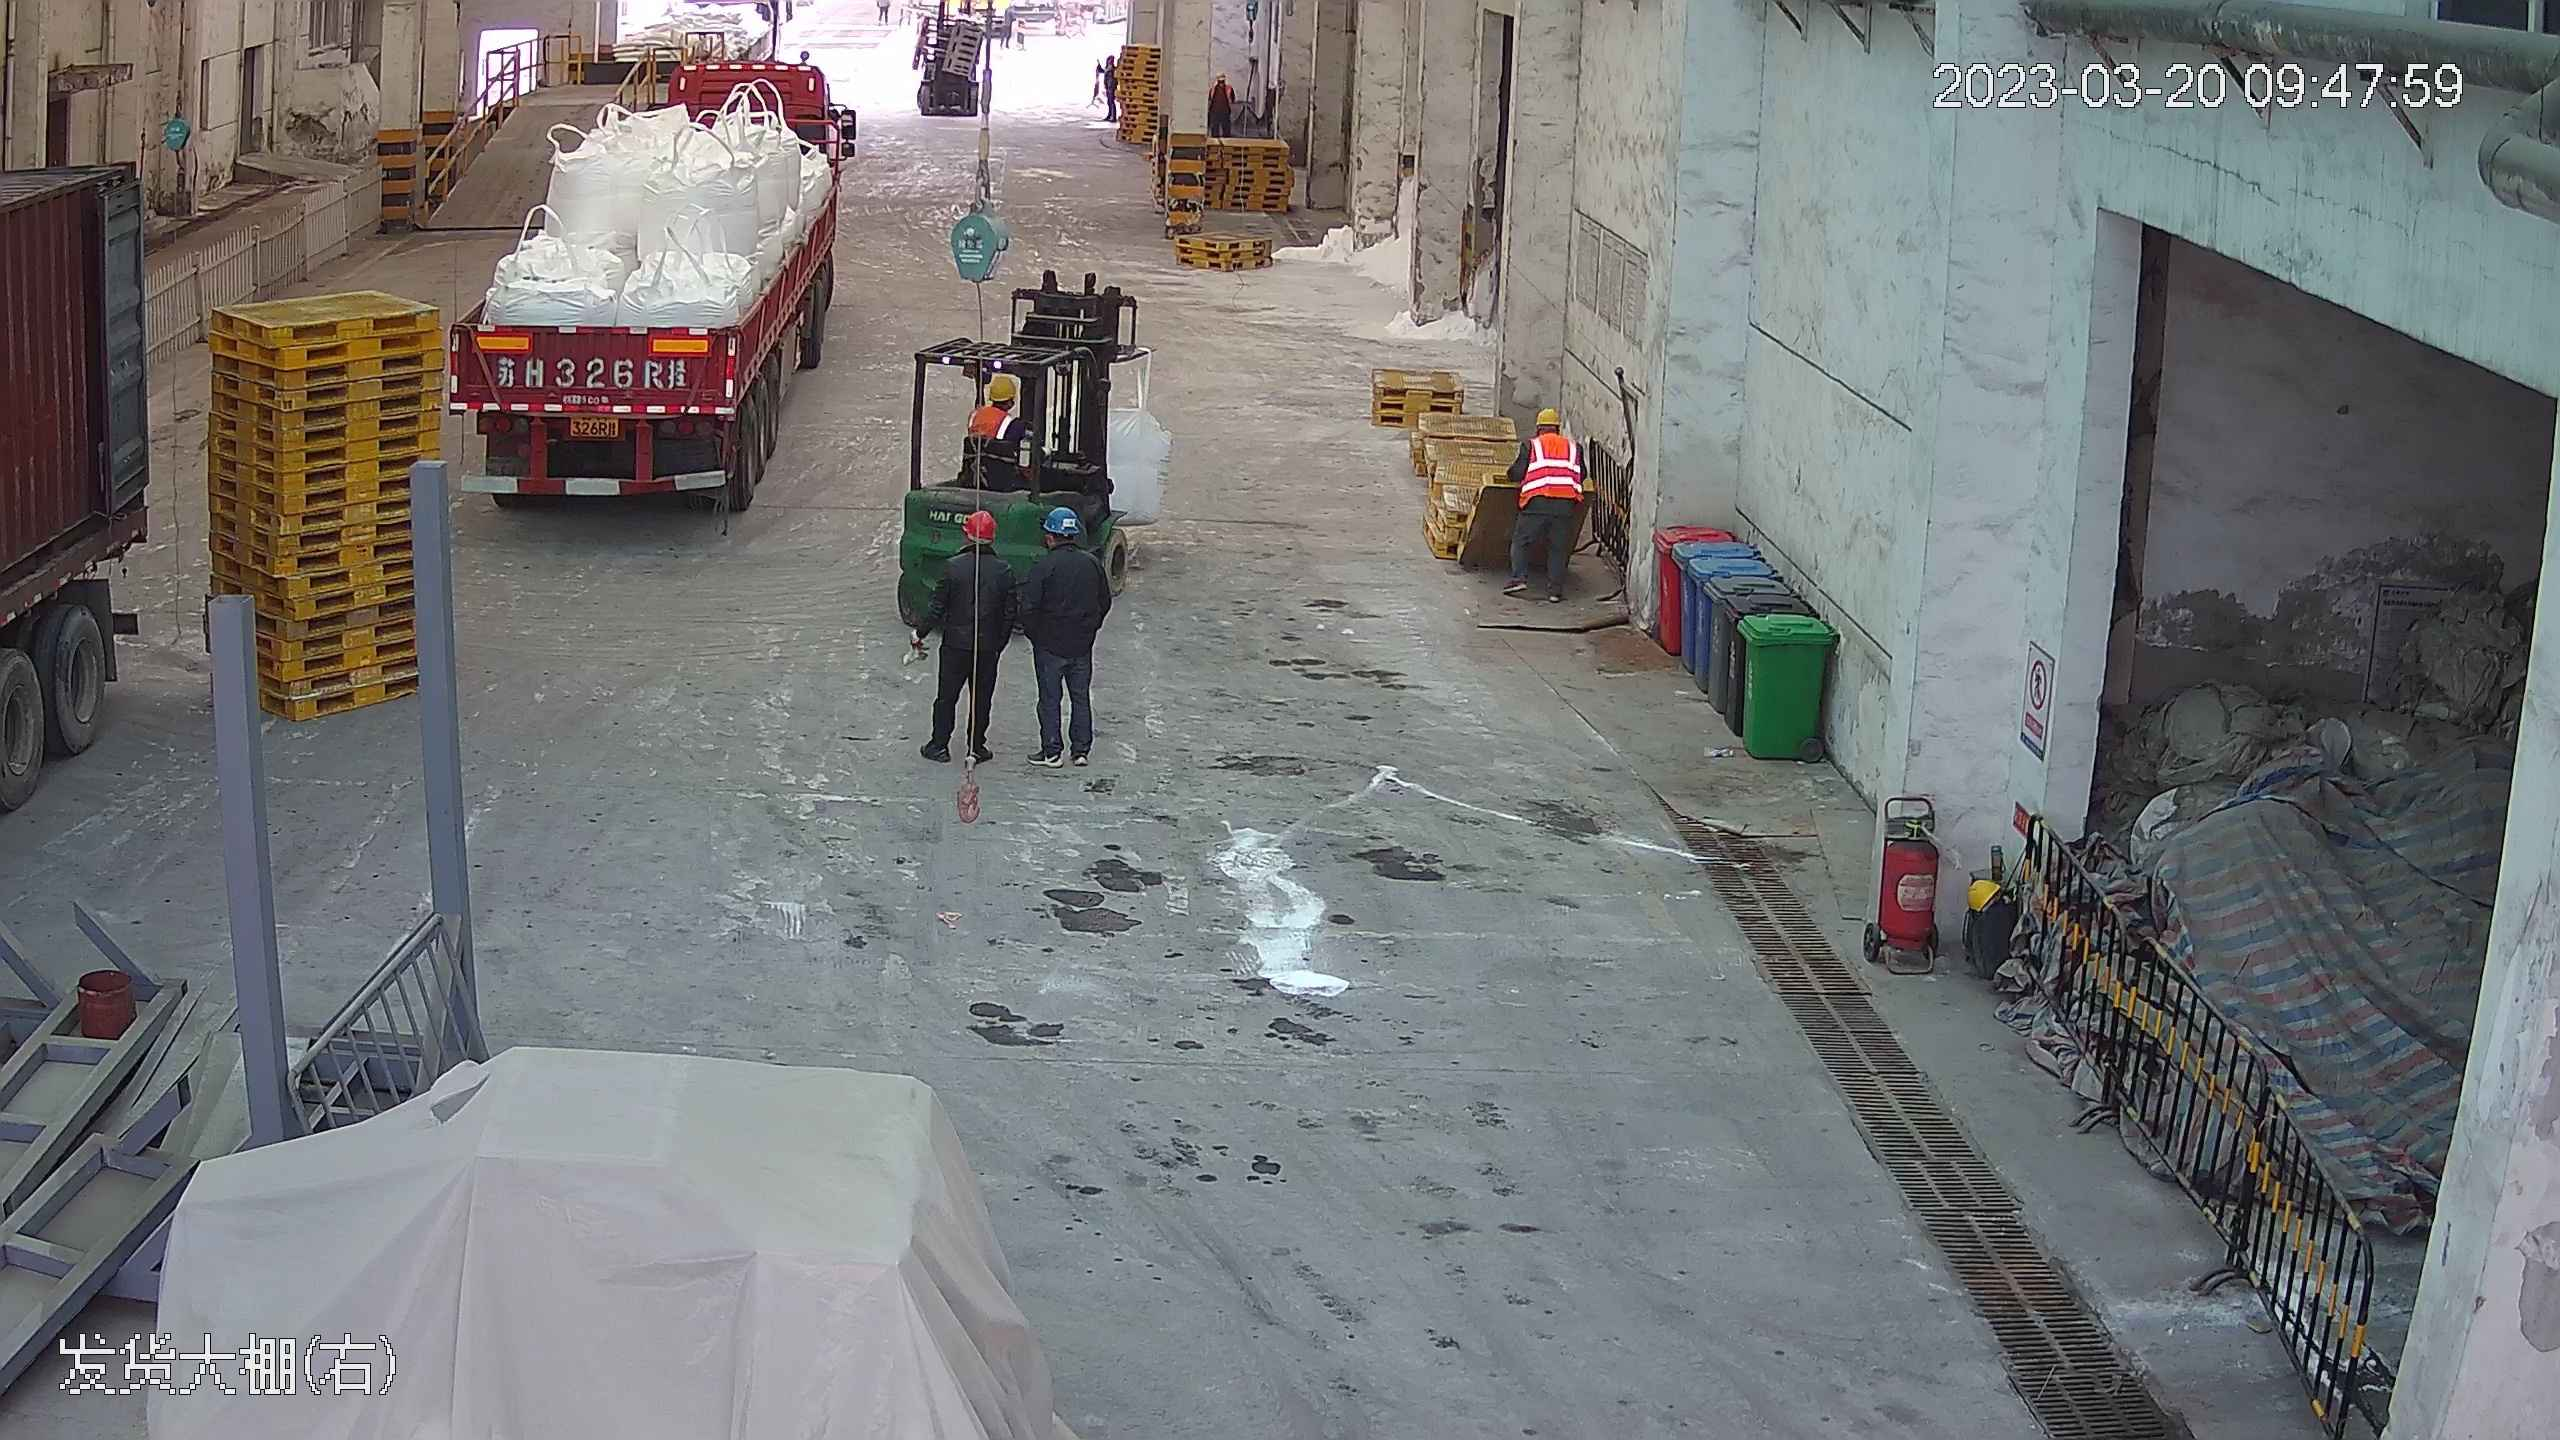head: (1022, 507, 1098, 589), (939, 508, 1010, 589), (969, 369, 1029, 447), (1520, 403, 1582, 465)
helmet: (1041, 505, 1083, 539), (983, 370, 1021, 406), (960, 507, 1000, 538), (1535, 403, 1565, 427)
people: (915, 504, 1011, 769), (1017, 505, 1109, 765), (1511, 401, 1591, 585)
truck: (454, 16, 850, 522), (1, 18, 176, 915)
